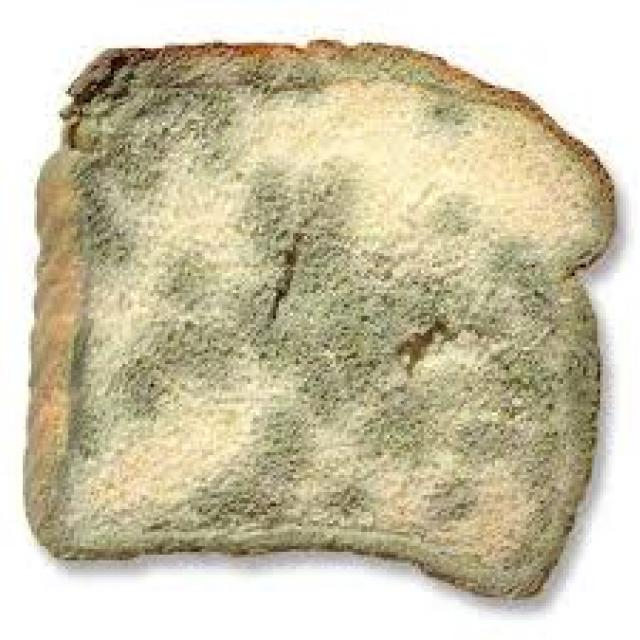organic waste: (20, 40, 614, 594)
